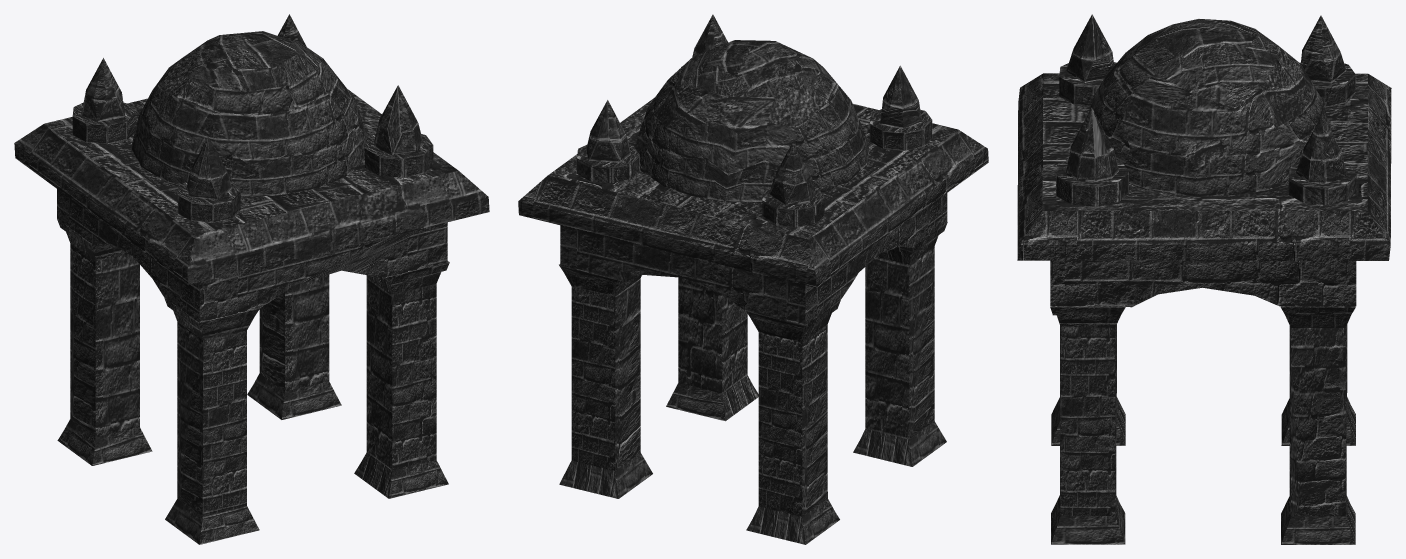
Rendered from temple.fbx.
The picture shows the model from 3 angles, left to right: view 1: azimuth 30°, elevation 25°; view 2: azimuth 150°, elevation 25°; view 3: azimuth 270°, elevation 25°; orthographic projection. The views are drawn at different scales.
Parts seen in each view (by area): view 1: Cylinder.024; view 2: Cylinder.024; view 3: Cylinder.024.
Boxes of the visible parts, box(x1,y1,x2,y2) form: Cylinder.024: box(14, 14, 489, 544); Cylinder.024: box(518, 14, 988, 544); Cylinder.024: box(1017, 14, 1391, 544).
Size of the model in its own units: 17918 by 23880 by 17972.
